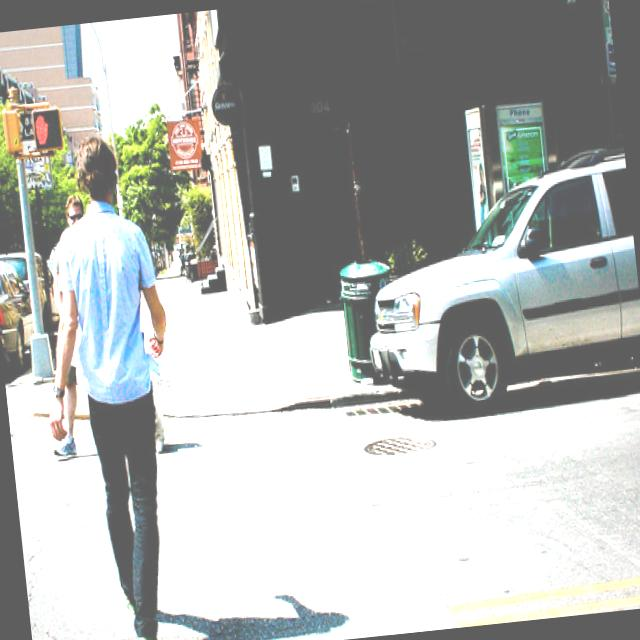Vehicle: (345, 141, 640, 421), (0, 251, 37, 370), (0, 250, 46, 317)
